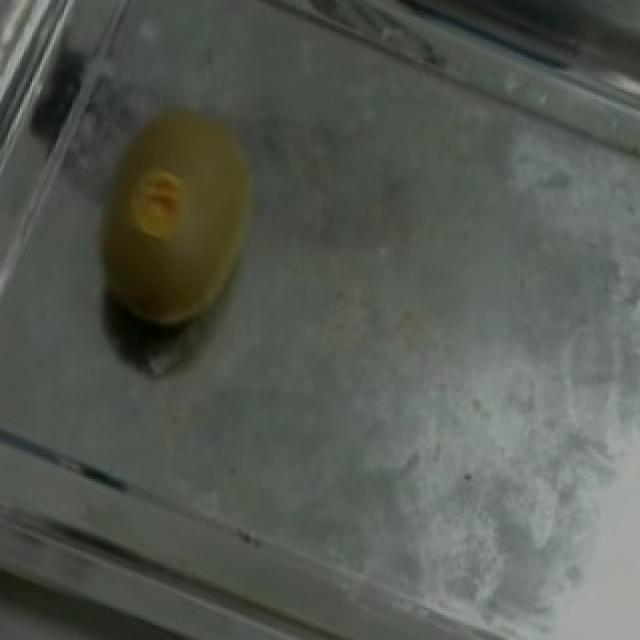Fruit: (52, 72, 304, 372)
